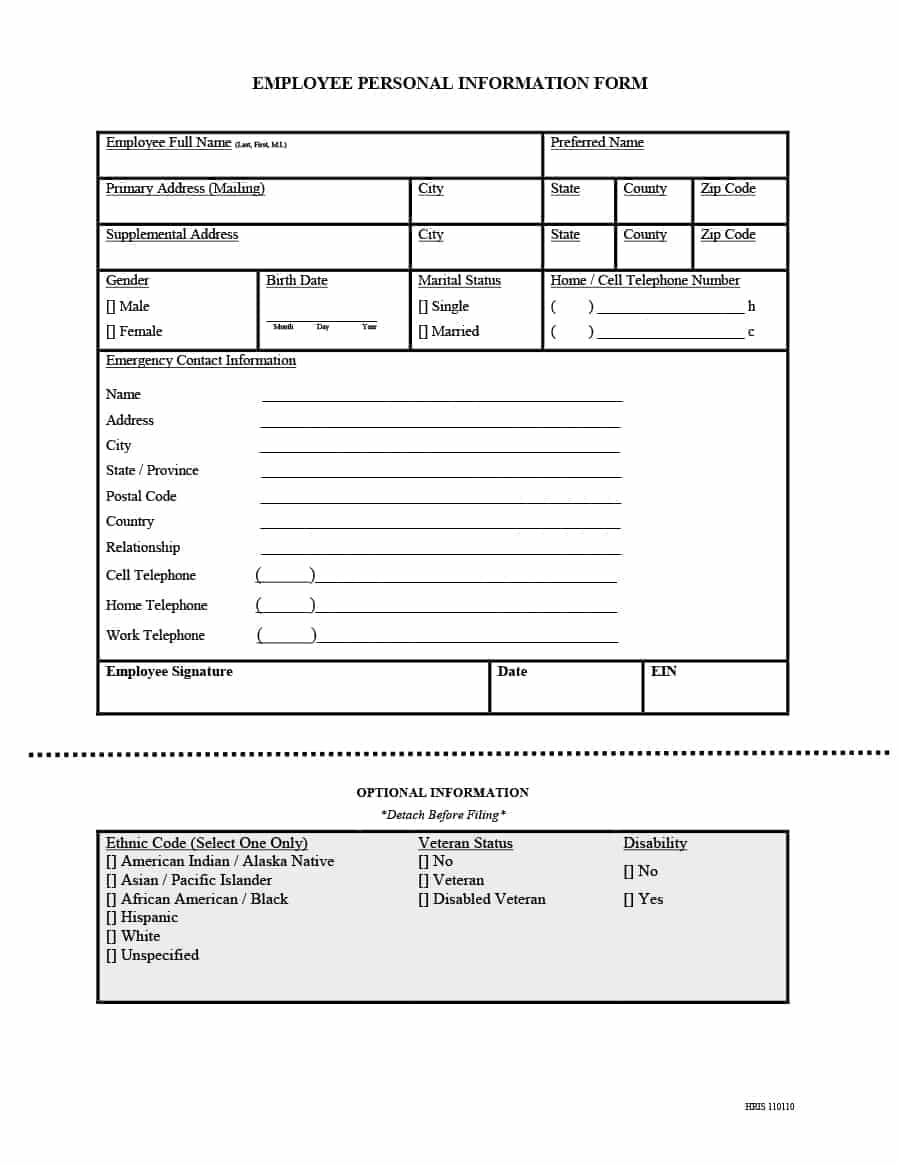table: (98, 133, 788, 714), (98, 830, 787, 1003)
